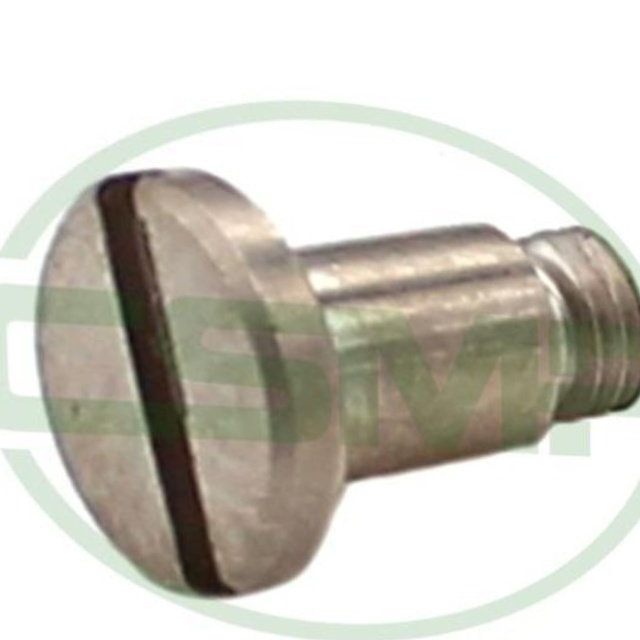duz: (23, 150, 341, 605)
